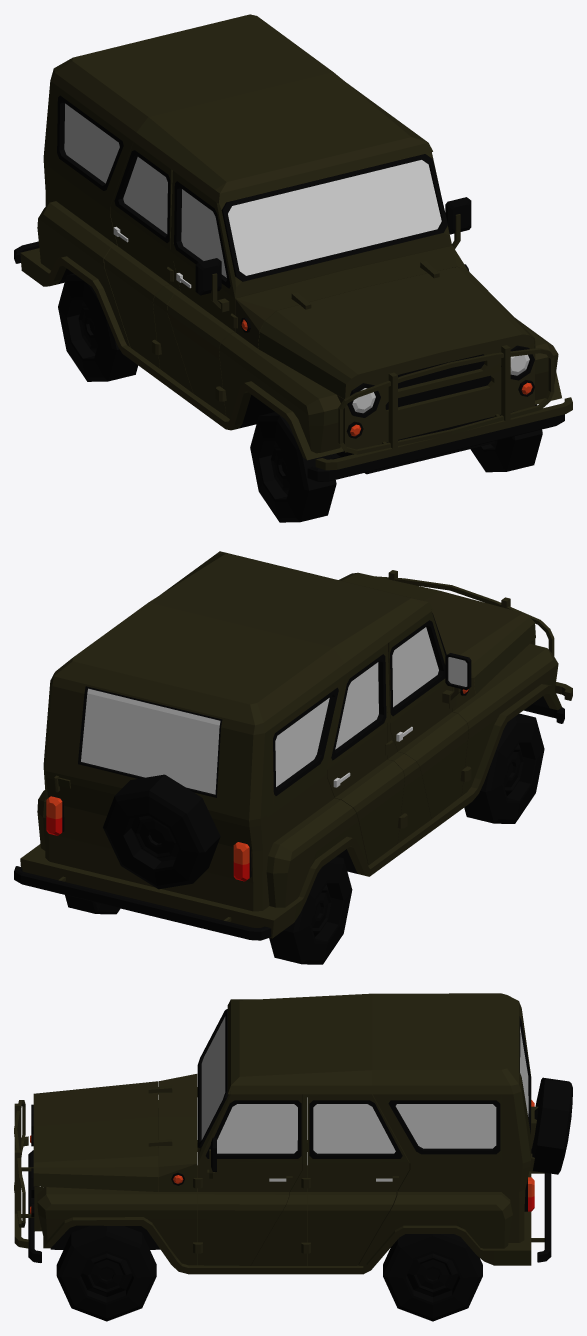
The model's file is soviet military off-road vehicle.obj.
The picture shows the model from 3 angles, top to bottom: view 1: azimuth 30°, elevation 25°; view 2: azimuth 150°, elevation 25°; view 3: azimuth 270°, elevation 25°; orthographic projection. The views are drawn at different scales.
Parts seen in each view (by area): view 1: Soviet_offroad_vehicle_body.002_Cube.001, soviet_offroad_wheel.002_Cube.004, soviet_offroad_wheel.003_Cube.005, soviet_offroad_wheel_Cube.003; view 2: Soviet_offroad_vehicle_body.002_Cube.001, soviet_offroad_wheel.002_Cube.004, soviet_offroad_wheel.003_Cube.005, soviet_offroad_wheel.001_Cube.002; view 3: Soviet_offroad_vehicle_body.002_Cube.001, soviet_offroad_wheel_Cube.003, soviet_offroad_wheel.001_Cube.002.
Boxes of the visible parts, x1,y1,x2,y2 form: Soviet_offroad_vehicle_body.002_Cube.001: (14, 14, 572, 481); soviet_offroad_wheel.002_Cube.004: (250, 412, 336, 522); soviet_offroad_wheel.003_Cube.005: (58, 273, 138, 381); soviet_offroad_wheel_Cube.003: (470, 404, 542, 472); Soviet_offroad_vehicle_body.002_Cube.001: (14, 551, 572, 940); soviet_offroad_wheel.002_Cube.004: (464, 713, 544, 823); soviet_offroad_wheel.003_Cube.005: (269, 856, 352, 964); soviet_offroad_wheel.001_Cube.002: (65, 895, 120, 914); Soviet_offroad_vehicle_body.002_Cube.001: (14, 993, 572, 1274); soviet_offroad_wheel_Cube.003: (56, 1225, 156, 1321); soviet_offroad_wheel.001_Cube.002: (383, 1234, 482, 1321).
Size of the model in its own units: 1.01 by 1 by 2.1.
